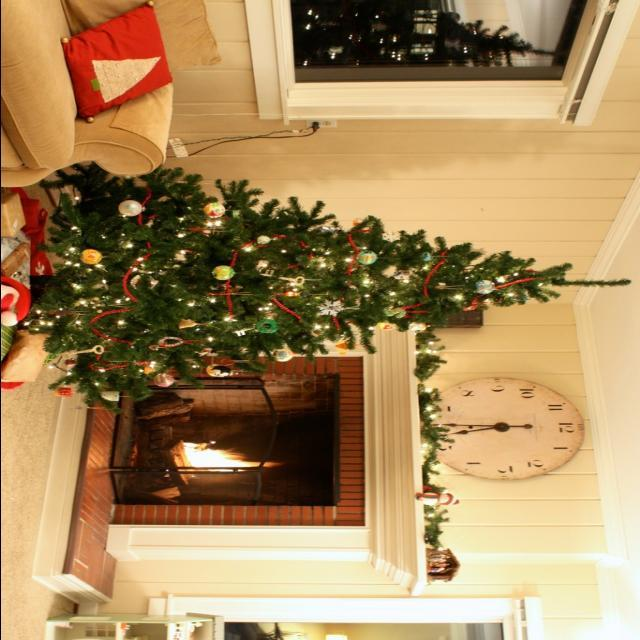Fire: (172, 433, 268, 478)
